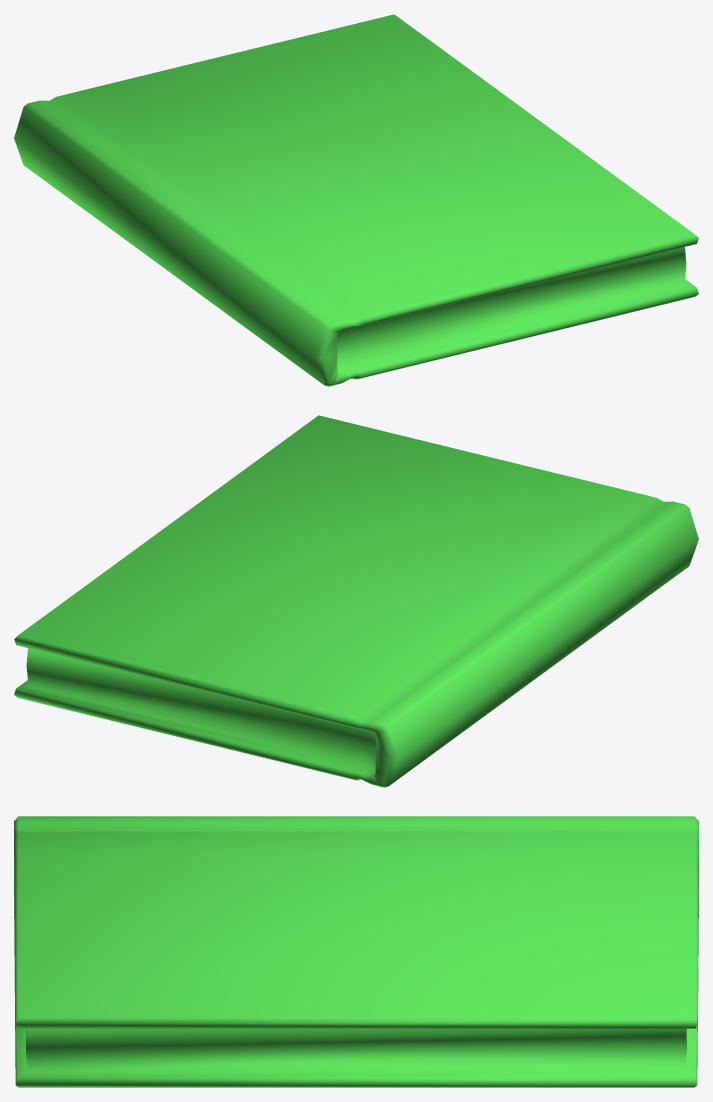
File: f_LivreA.fbx
3 views of the same model, one above another, from view 1: azimuth 30°, elevation 25°; view 2: azimuth 150°, elevation 25°; view 3: azimuth 270°, elevation 25° (orthographic). The views are drawn at different scales.
Visible parts, largest first — view 1: LivreA_LD; view 2: LivreA_LD; view 3: LivreA_LD.
Boxes of the visible parts, x1,y1,x2,y2 form: LivreA_LD: (14, 14, 698, 386); LivreA_LD: (14, 415, 698, 787); LivreA_LD: (14, 816, 698, 1087).
Size of the model in its own units: 25.29 by 3.98 by 34.87.
